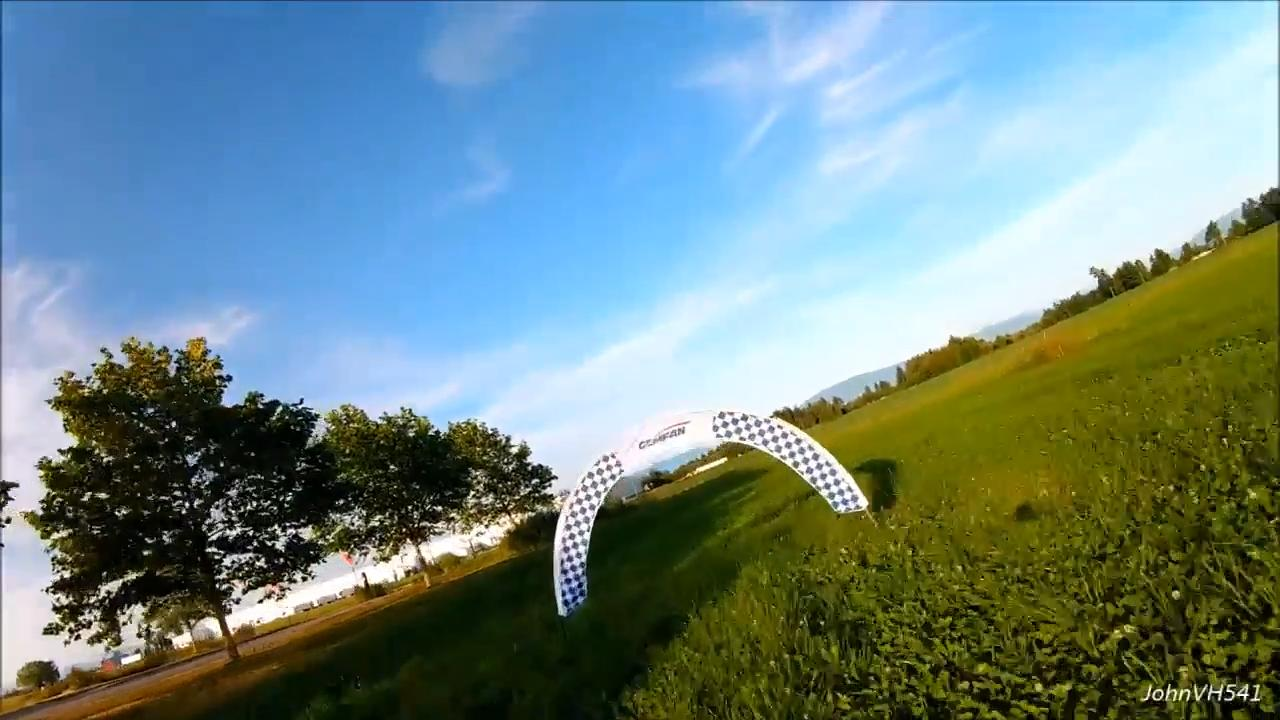gate: (547, 401, 873, 617)
